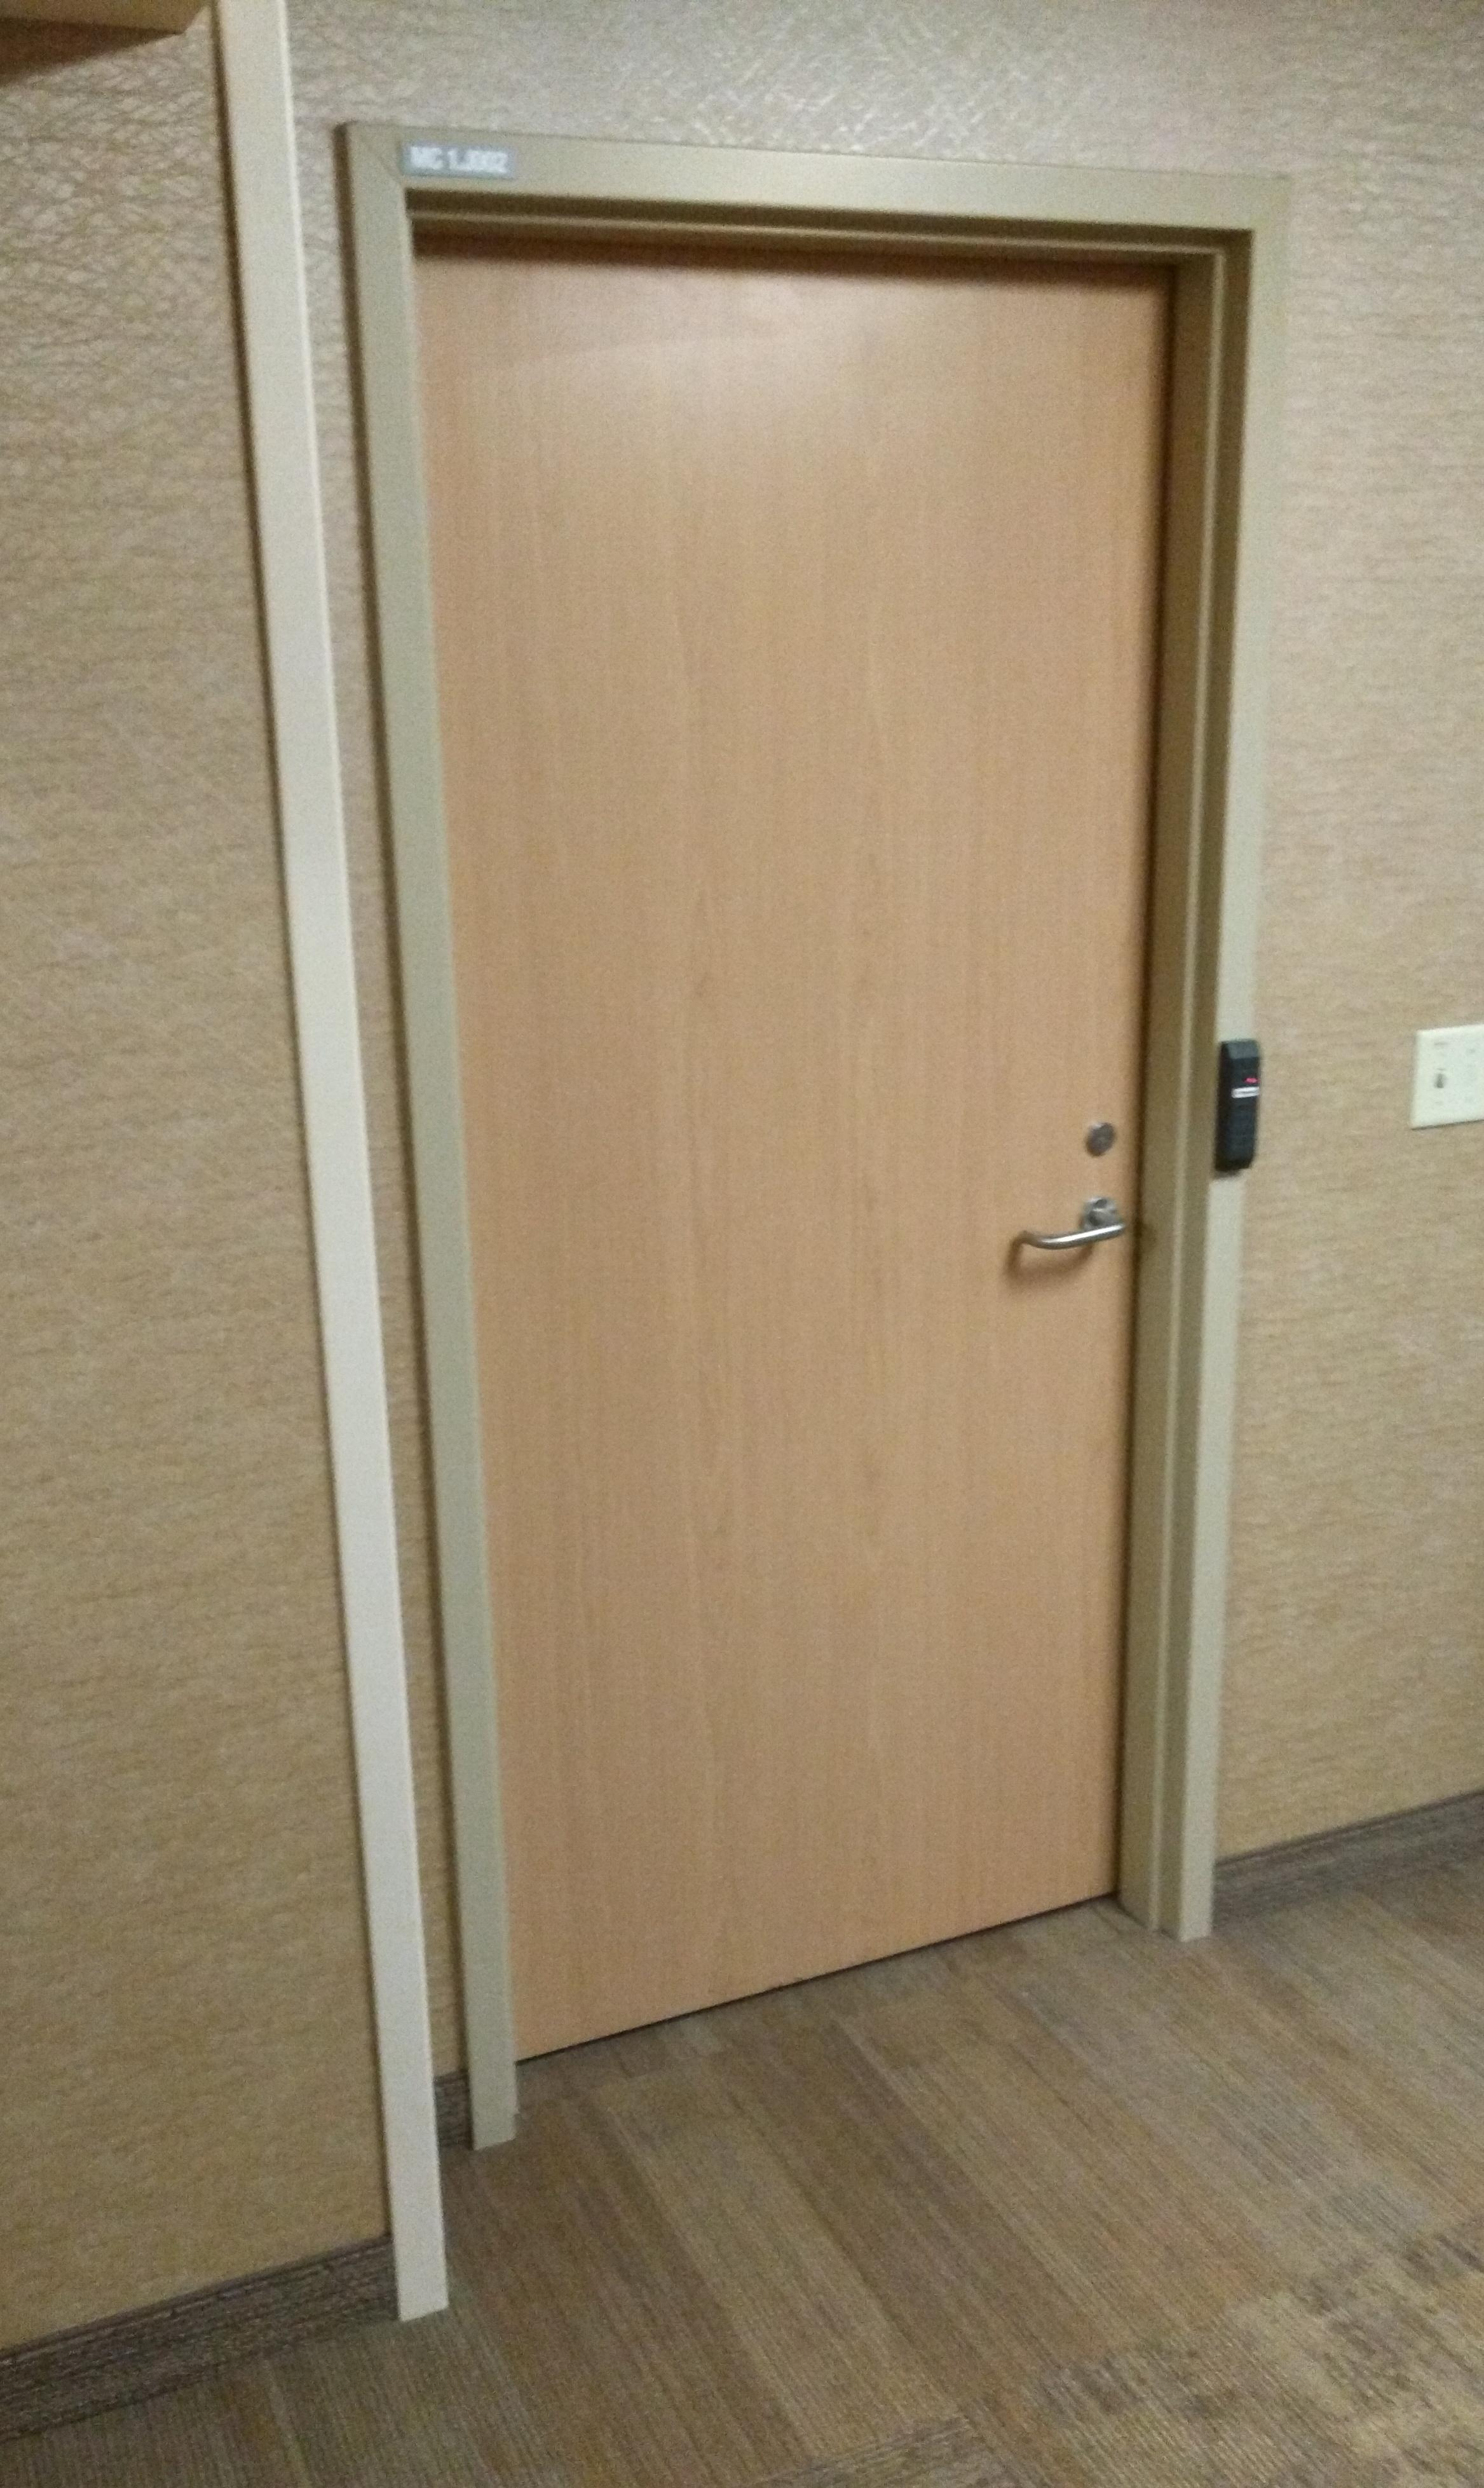door: (468, 256, 1124, 1921)
handle: (1030, 1186, 1118, 1283)
